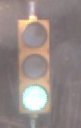Green: (12, 16, 57, 114)
